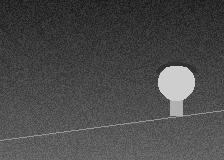no_helmet: (158, 62, 194, 105)
